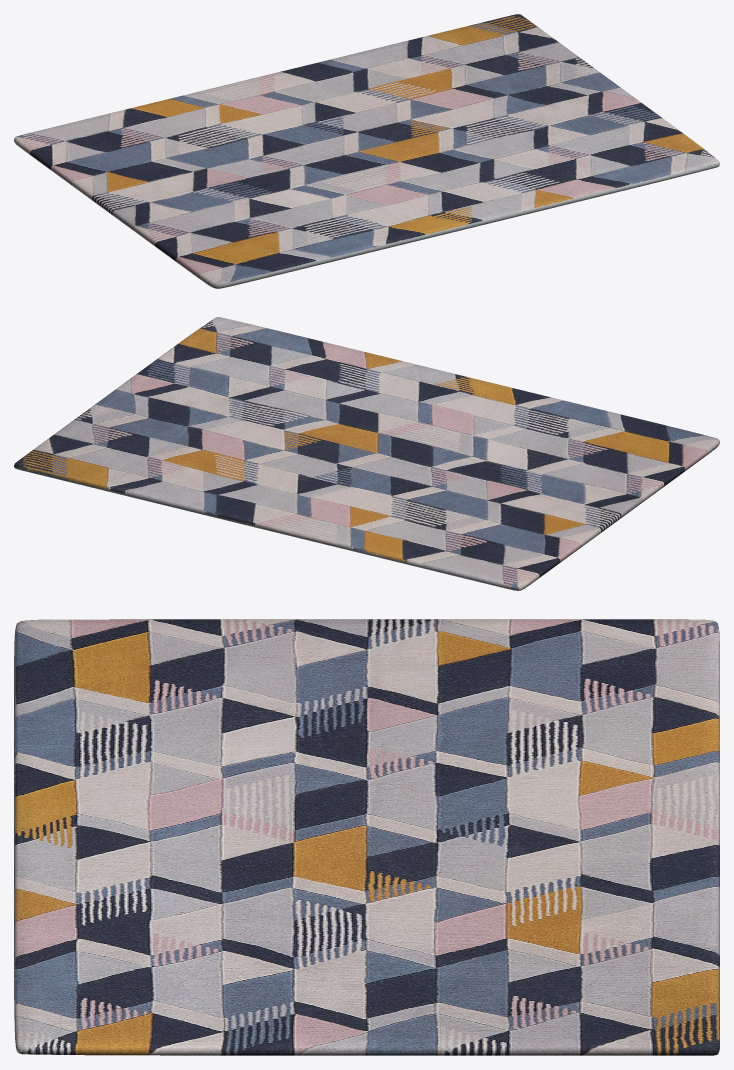
File: ava-large-geometric-hand-tufted-wool-rug.glb
3 renders of one model, top to bottom at view 1: azimuth 30°, elevation 25°; view 2: azimuth 150°, elevation 25°; view 3: azimuth 270°, elevation 25°, orthographic. The views are drawn at different scales.
Visible parts, largest first — view 1: Ava_Large_Geometric_Hand_Tufted_Wool_Rug_160_x_230cm_Tonal_B; view 2: Ava_Large_Geometric_Hand_Tufted_Wool_Rug_160_x_230cm_Tonal_B; view 3: Ava_Large_Geometric_Hand_Tufted_Wool_Rug_160_x_230cm_Tonal_B.
Boxes of the visible parts, x1,y1,x2,y2 form: Ava_Large_Geometric_Hand_Tufted_Wool_Rug_160_x_230cm_Tonal_B: (14,14,719,288); Ava_Large_Geometric_Hand_Tufted_Wool_Rug_160_x_230cm_Tonal_B: (14,317,719,590); Ava_Large_Geometric_Hand_Tufted_Wool_Rug_160_x_230cm_Tonal_B: (14,619,719,1055).
Bounding box in the file's own units: 2.3 × 0.029 × 1.6.
1 material, 1 textured.
